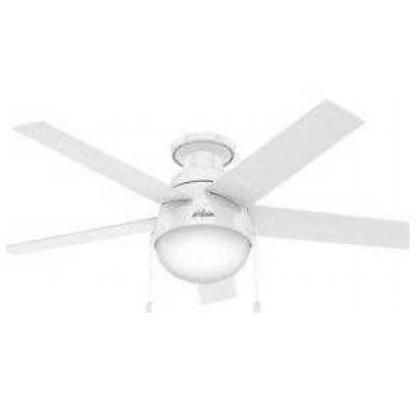ceiling-fan: (6, 98, 410, 314)
